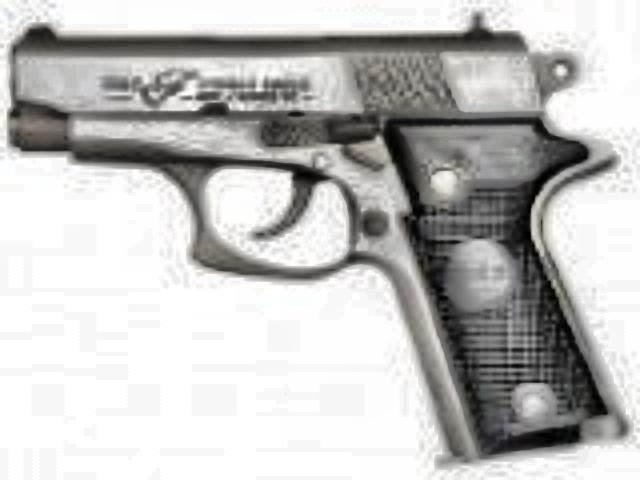pistol: (0, 8, 616, 452)
